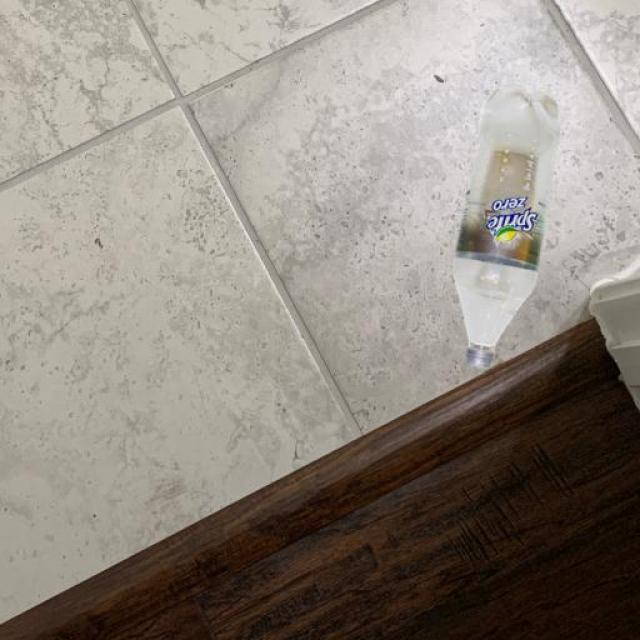bottle: (446, 82, 576, 373)
